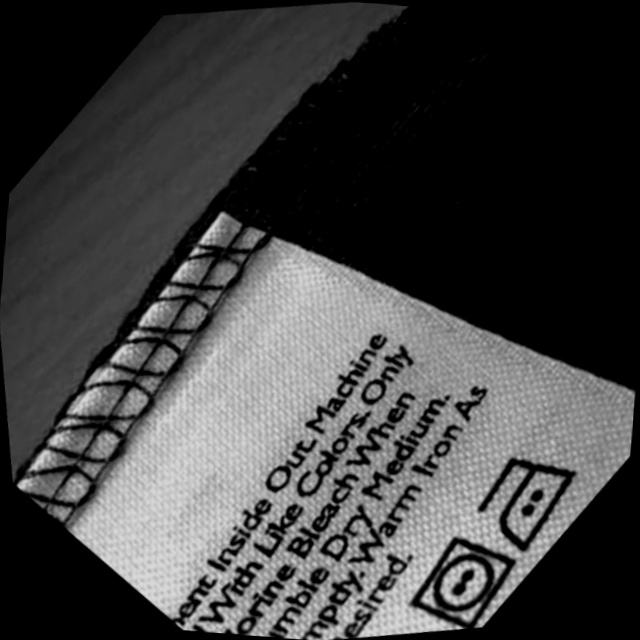iron_medium: (468, 442, 596, 560)
tumble_dry_medium: (400, 525, 531, 640)
